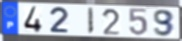2: (48, 6, 71, 36), (101, 8, 123, 36)
4: (23, 5, 44, 34)
5: (128, 7, 150, 38)
9: (152, 9, 176, 38)
I: (87, 7, 95, 35)
